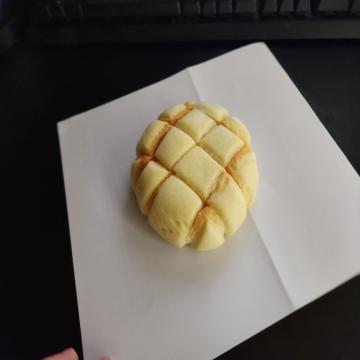melon_bread: (130, 99, 259, 253)
